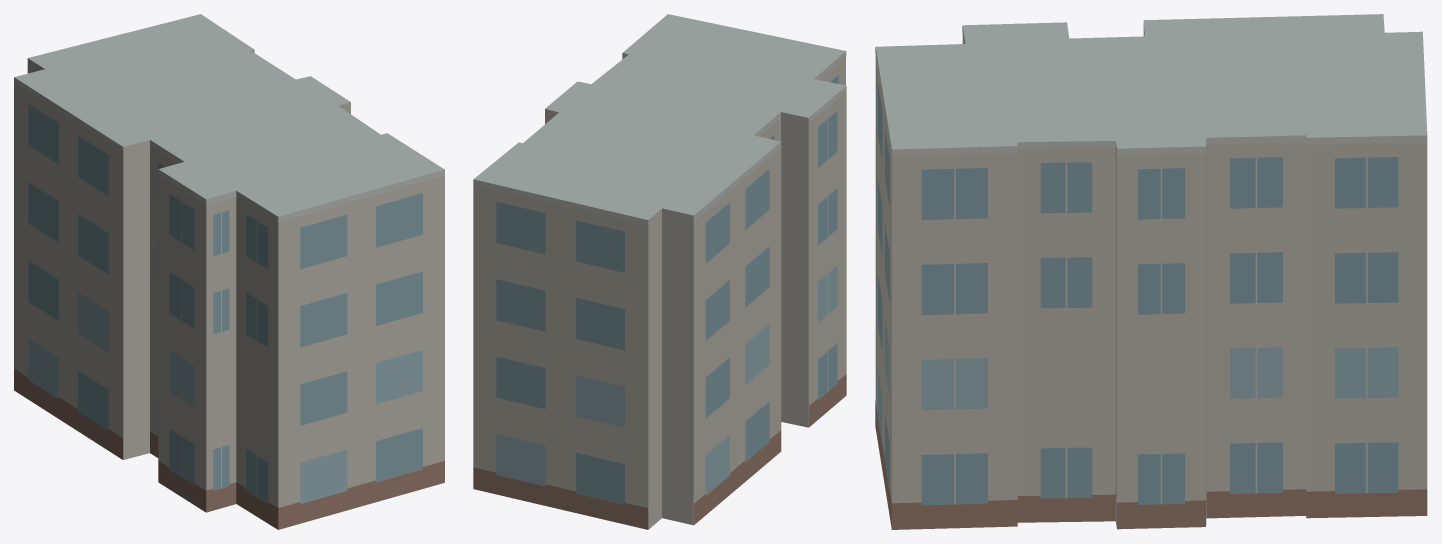
File: survey-upis-32962115.glb
3 views of the same model, side by side, from view 1: azimuth 30°, elevation 25°; view 2: azimuth 150°, elevation 25°; view 3: azimuth 270°, elevation 25° (orthographic). The views are drawn at different scales.
Visible parts, largest first — view 1: survey-upis-32962115.tmp; view 2: survey-upis-32962115.tmp; view 3: survey-upis-32962115.tmp.
Boxes of the visible parts, <box> form: survey-upis-32962115.tmp: <box>14,14,444,529</box>; survey-upis-32962115.tmp: <box>473,14,846,529</box>; survey-upis-32962115.tmp: <box>875,14,1427,529</box>.
Size of the model in its own units: 10.09 by 13.2 by 17.36.
